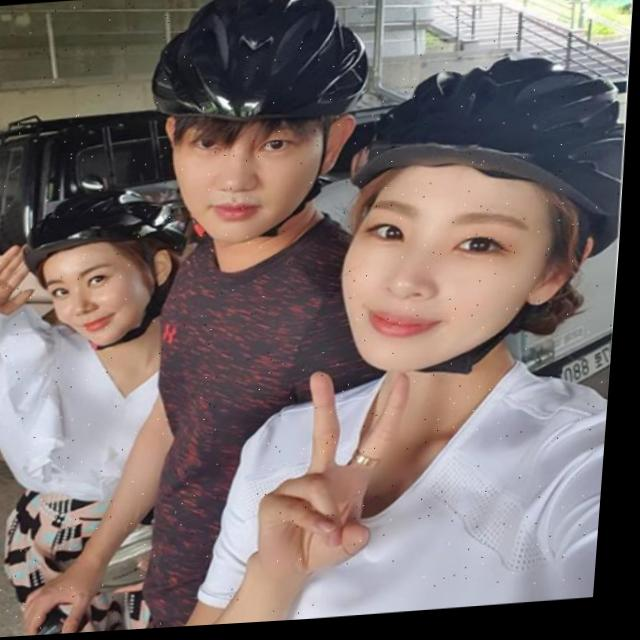helmet: (339, 59, 634, 391), (143, 0, 378, 254), (18, 187, 189, 359)
